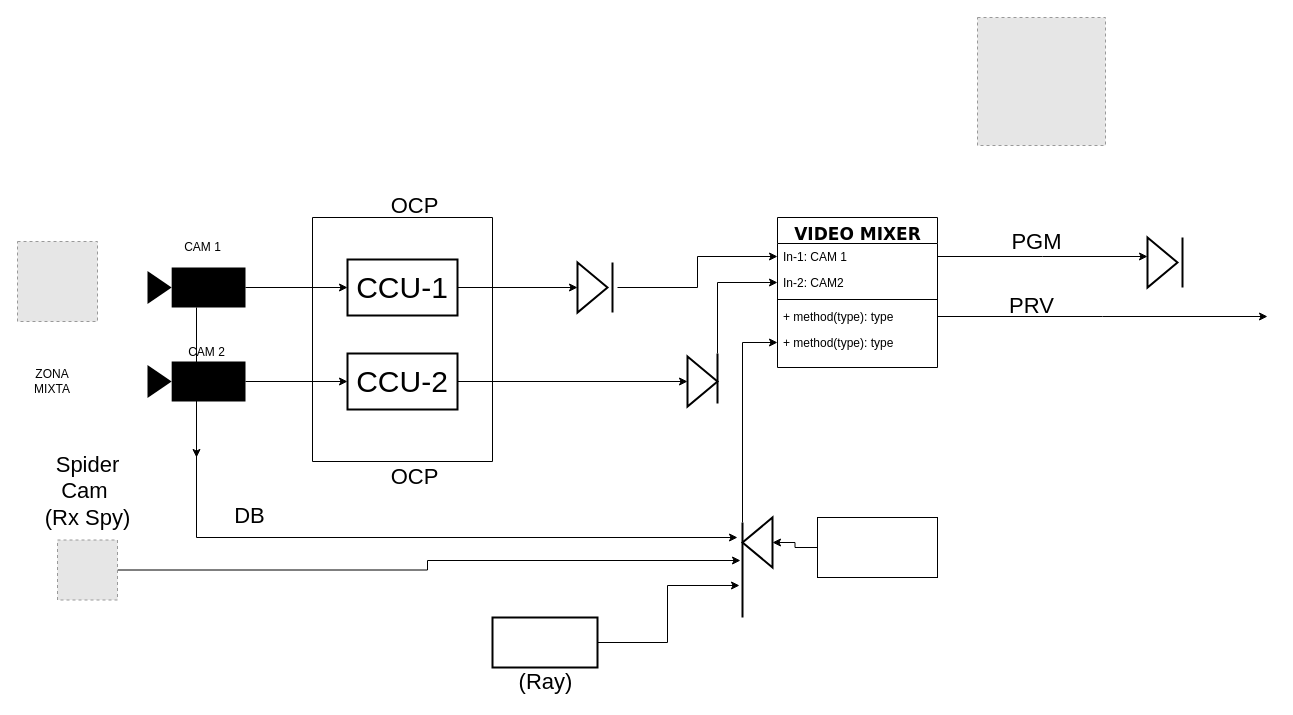
Some shapes in this 1293 by 715 pixel diagram are drawn without their labels. Grey dashed boxes stand in for pictures. Each missing label, with the centre of its shape:
"PSG (G.SYN)" goes at [877,547].
"VTR1" goes at [544,642].
